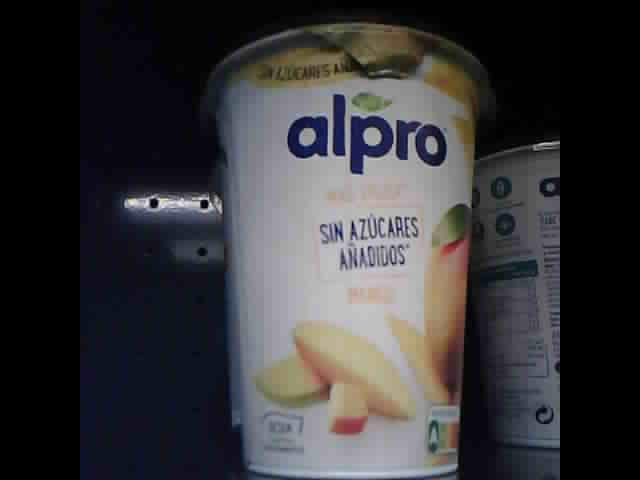alpro: (198, 21, 489, 477), (469, 138, 560, 454)
